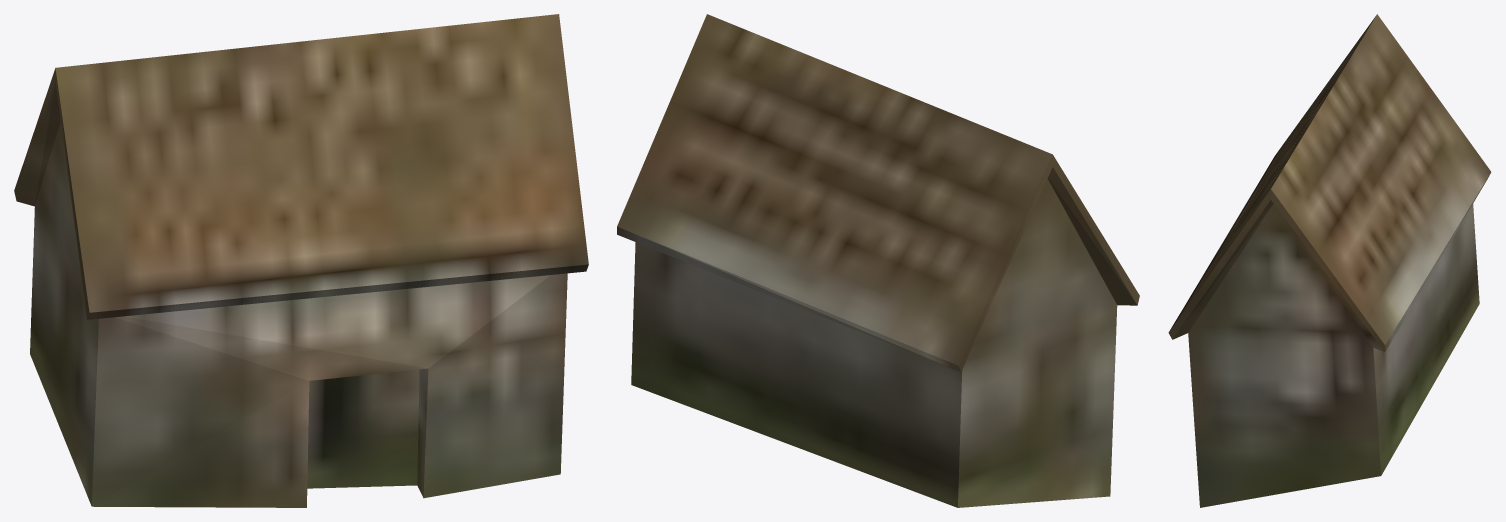
File: house_06.glb
3 views of the same model, side by side, from view 1: azimuth 30°, elevation 25°; view 2: azimuth 150°, elevation 25°; view 3: azimuth 270°, elevation 25° (orthographic). The views are drawn at different scales.
Visible parts, largest first — view 1: geometry_0; view 2: geometry_0; view 3: geometry_0.
Boxes of the visible parts, x1=… form: geometry_0: x1=14, y1=14, x2=588, y2=507; geometry_0: x1=617, y1=14, x2=1139, y2=507; geometry_0: x1=1168, y1=14, x2=1491, y2=507.
Size of the model in its own units: 0.0566 by 0.0464 by 0.04.
1 material, 1 textured.
